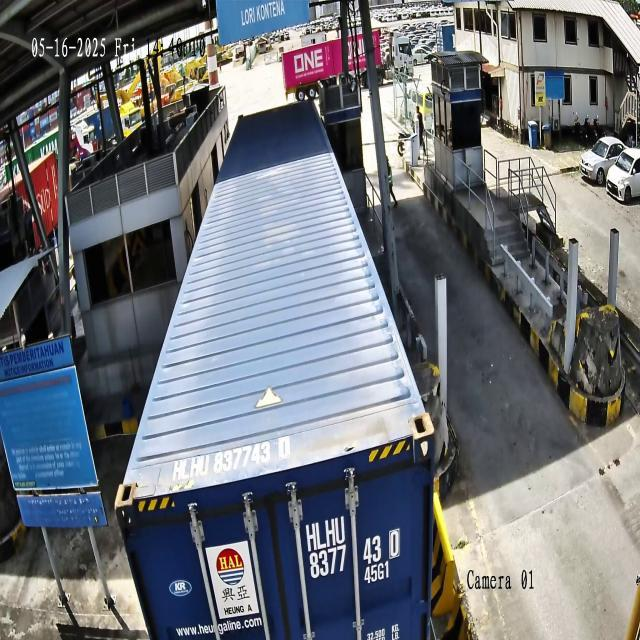ISO: (364, 560, 390, 586)
container_number: (305, 514, 402, 580)
